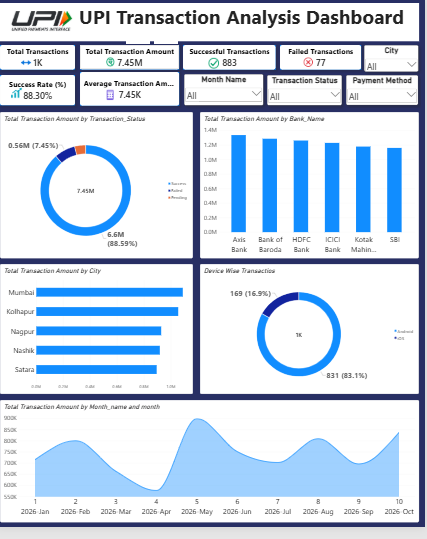

Layout of this report page (visuals, bound fields, positions):
{"tool":"powerbi","page":{"name":"UPI Transaction dashboard","canvas":[1950,2400],"ordinal":0},"visuals":[{"type":"cardVisual","title":"Total Transactions","fields":{"Data":["_measures.Total Transactions"]},"box":[17.3,207.4,341.3,112.3],"z":0},{"type":"cardVisual","fields":{"Data":["_measures.Total Transaction Amount"]},"box":[380.2,207.4,451.4,112.3],"z":1000},{"type":"cardVisual","fields":{"Data":["_measures.Successful Transactions"]},"box":[851,209.5,421.2,112.3],"z":2000},{"type":"cardVisual","fields":{"Data":["_measures.Failed Transactions"]},"box":[1291.7,209.5,369.4,112.3],"z":3000},{"type":"cardVisual","fields":{"Data":["_measures.Average Transaction Amount"]},"box":[380.2,330.5,451.4,153.4],"z":4000},{"type":"cardVisual","fields":{"Data":["_measures.Success Rate (%)"]},"box":[17.3,345.6,341.3,138.2],"z":5000},{"type":"image","box":[84.2,248.4,103.7,77.8],"z":6000},{"type":"textbox","box":[16.3,16.3,1904.7,174.4],"z":7000},{"type":"image","box":[39.5,16.3,330.5,149],"z":8000},{"type":"image","box":[457.9,254.9,121,62.6],"z":11000},{"type":"image","box":[950.4,257,79.9,64.8],"z":11001},{"type":"image","box":[1375.9,259.2,84.2,56.2],"z":11002},{"type":"image","box":[60.5,393.1,75.6,75.6],"z":11003},{"type":"image","box":[460.1,406.1,118.8,62.6],"z":11004},{"type":"slicer","title":"Month Name","fields":{"Values":["date.Month_name"]},"box":[853.2,341.3,360.7,142.6],"z":11005},{"type":"slicer","title":"City","fields":{"Values":["Transactions.City"]},"box":[1671.8,209.5,248.4,121],"z":11006},{"type":"slicer","title":"Payment Method","fields":{"Values":["Transactions.Payment_Method"]},"box":[1593,346.5,327.9,137.2],"z":11007},{"type":"slicer","title":" Transaction Status","fields":{"Values":["Transactions.Transaction_Status"]},"box":[1231.2,345.6,341.3,138.2],"z":11008},{"type":"donutChart","fields":{"Category":["Transactions.Transaction_Status"],"Y":["_measures.Total Transaction Amount"]},"box":[16.3,511.6,876.7,665.1],"z":11009},{"type":"barChart","fields":{"Category":["Transactions.City"],"Y":["_measures.Total Transaction Amount"]},"box":[16.3,1202.3,876.7,590.7],"z":11010},{"type":"columnChart","fields":{"Category":["Transactions.Bank_Name"],"Y":["_measures.Total Transaction Amount"]},"box":[925.6,511.6,995.3,665.1],"z":11011},{"type":"lineChart","fields":{"Category":["date.Month_name","date.month"],"Y":["_measures.Total Transaction Amount"]},"box":[16.3,1820.9,1904.7,555.8],"z":11012},{"type":"donutChart","title":"Device Wise Transactios","fields":{"Category":["Transactions.Device_Type"],"Y":["_measures.Total Transactions"]},"box":[925.6,1202.3,995.3,590.7],"z":11013}]}

Visuals, with their boxes in screenshot pixels (x1, y1, x2, y2), scaled from the page's 1950x2400 canvas onto the 427x539 screenshot:
"Total Transactions" cardVisual: {"x1": 4, "y1": 47, "x2": 79, "y2": 72}
cardVisual - _measures.Total Transaction Amount: {"x1": 83, "y1": 47, "x2": 182, "y2": 72}
cardVisual - _measures.Successful Transactions: {"x1": 186, "y1": 47, "x2": 279, "y2": 72}
cardVisual - _measures.Failed Transactions: {"x1": 283, "y1": 47, "x2": 364, "y2": 72}
cardVisual - _measures.Average Transaction Amount: {"x1": 83, "y1": 74, "x2": 182, "y2": 109}
cardVisual - _measures.Success Rate (%): {"x1": 4, "y1": 78, "x2": 79, "y2": 109}
image: {"x1": 18, "y1": 56, "x2": 41, "y2": 73}
textbox: {"x1": 4, "y1": 4, "x2": 421, "y2": 43}
image: {"x1": 9, "y1": 4, "x2": 81, "y2": 37}
image: {"x1": 100, "y1": 57, "x2": 127, "y2": 71}
image: {"x1": 208, "y1": 58, "x2": 226, "y2": 72}
image: {"x1": 301, "y1": 58, "x2": 320, "y2": 71}
image: {"x1": 13, "y1": 88, "x2": 30, "y2": 105}
image: {"x1": 101, "y1": 91, "x2": 127, "y2": 105}
"Month Name" slicer: {"x1": 187, "y1": 77, "x2": 266, "y2": 109}
"City" slicer: {"x1": 366, "y1": 47, "x2": 420, "y2": 74}
"Payment Method" slicer: {"x1": 349, "y1": 78, "x2": 421, "y2": 109}
" Transaction Status" slicer: {"x1": 270, "y1": 78, "x2": 344, "y2": 109}
donutChart - Transactions.Transaction_Status x _measures.Total Transaction Amount: {"x1": 4, "y1": 115, "x2": 196, "y2": 264}
barChart - Transactions.City x _measures.Total Transaction Amount: {"x1": 4, "y1": 270, "x2": 196, "y2": 403}
columnChart - Transactions.Bank_Name x _measures.Total Transaction Amount: {"x1": 203, "y1": 115, "x2": 421, "y2": 264}
lineChart - date.Month_name x date.month: {"x1": 4, "y1": 409, "x2": 421, "y2": 534}
"Device Wise Transactios" donutChart: {"x1": 203, "y1": 270, "x2": 421, "y2": 403}
